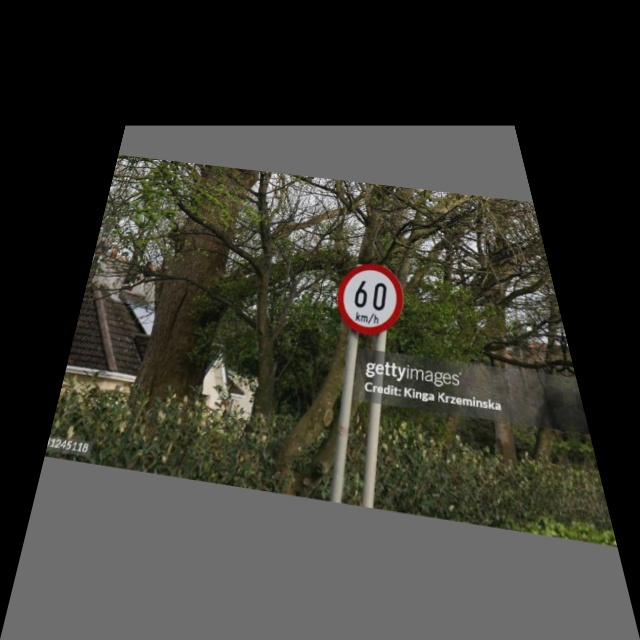Speed_Limit_60: (328, 258, 410, 342)
